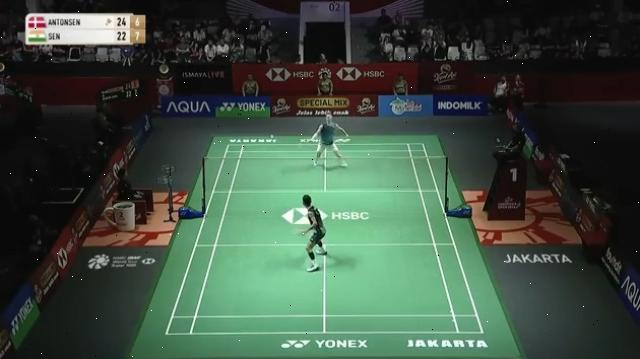Shuttlecock: (268, 130, 276, 142)
